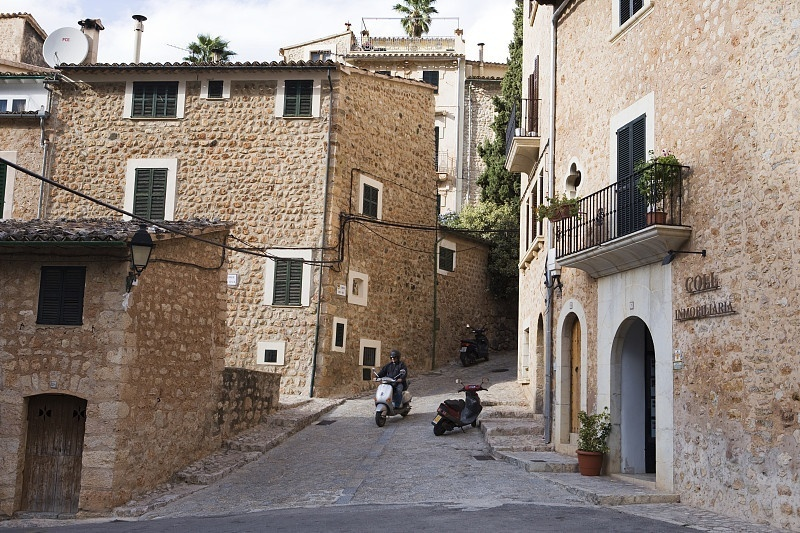non-vehicle: (427, 379, 492, 435), (374, 372, 408, 422), (459, 327, 489, 363)
